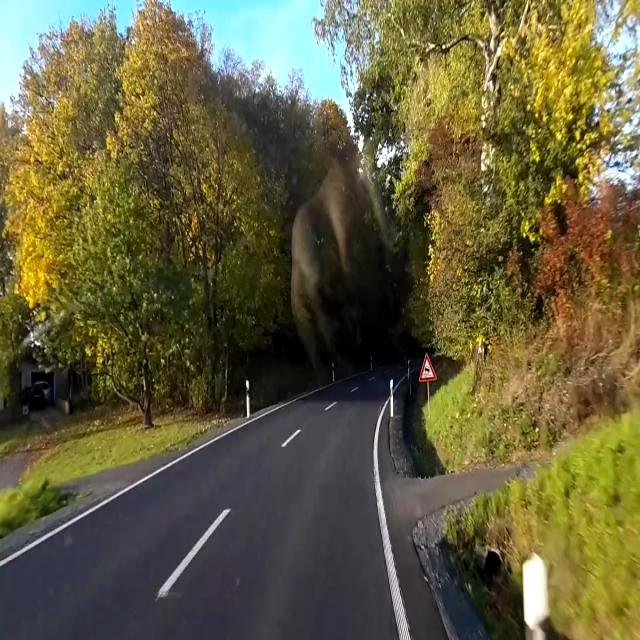lane: (1, 418, 258, 567), (374, 400, 412, 640), (156, 508, 231, 599)
road: (0, 369, 397, 639)
